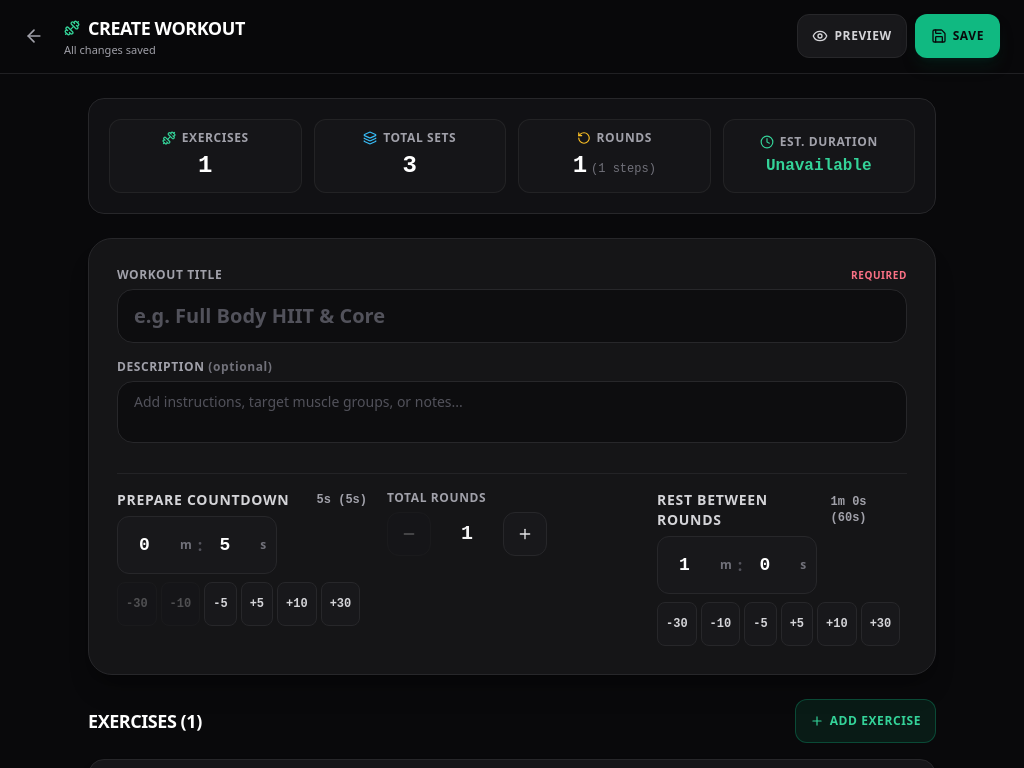
Test: WorkoutBuilder Component › successfully saves valid workout to repository
Type "Chest & Triceps" into the field labelled "Workout Title Required" at (512, 316), box left=117, top=288, right=907, bottom=342
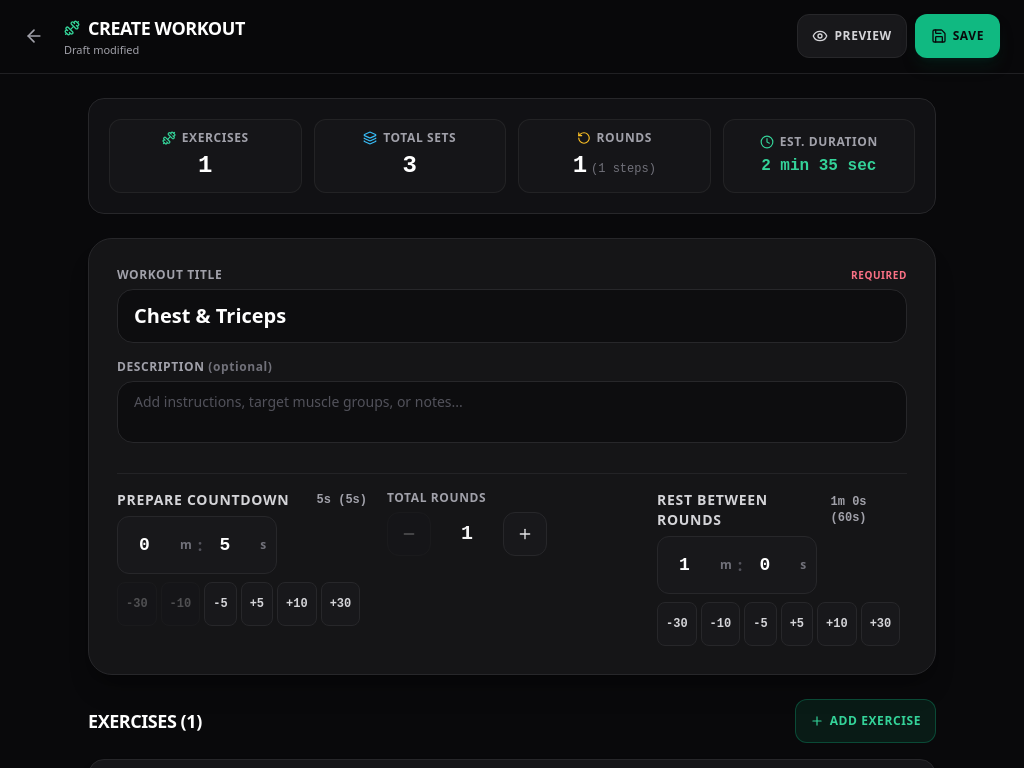
Click the button with aria-label "save workout" at (957, 36), box left=915, top=14, right=1000, bottom=58
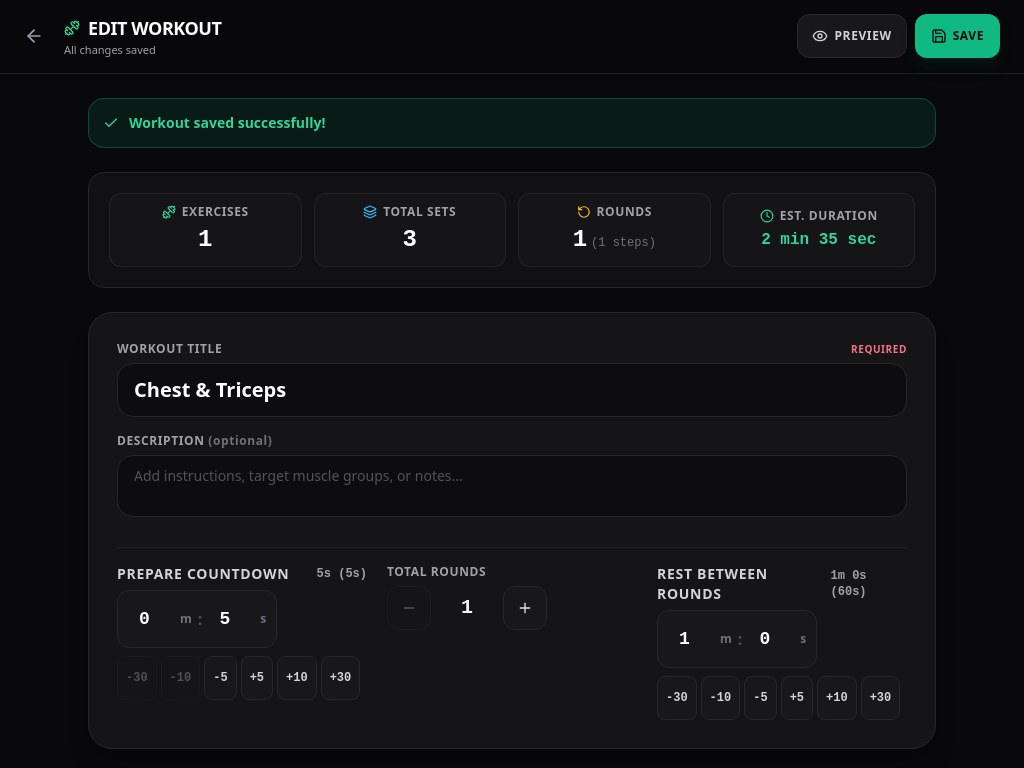
Expected: the message "Workout saved successfully!" is shown, left=88, top=98, right=936, bottom=148
Expected: the text "Workout saved successfully!" is shown, left=129, top=112, right=326, bottom=132
